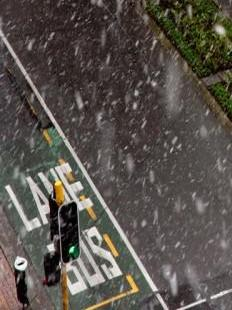green_light: (59, 201, 80, 264)
